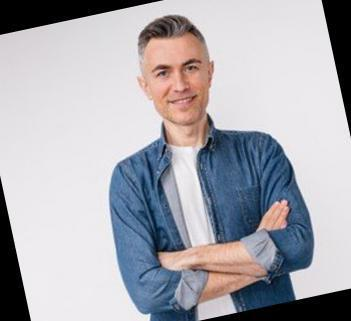Sober: (145, 38, 210, 128)
